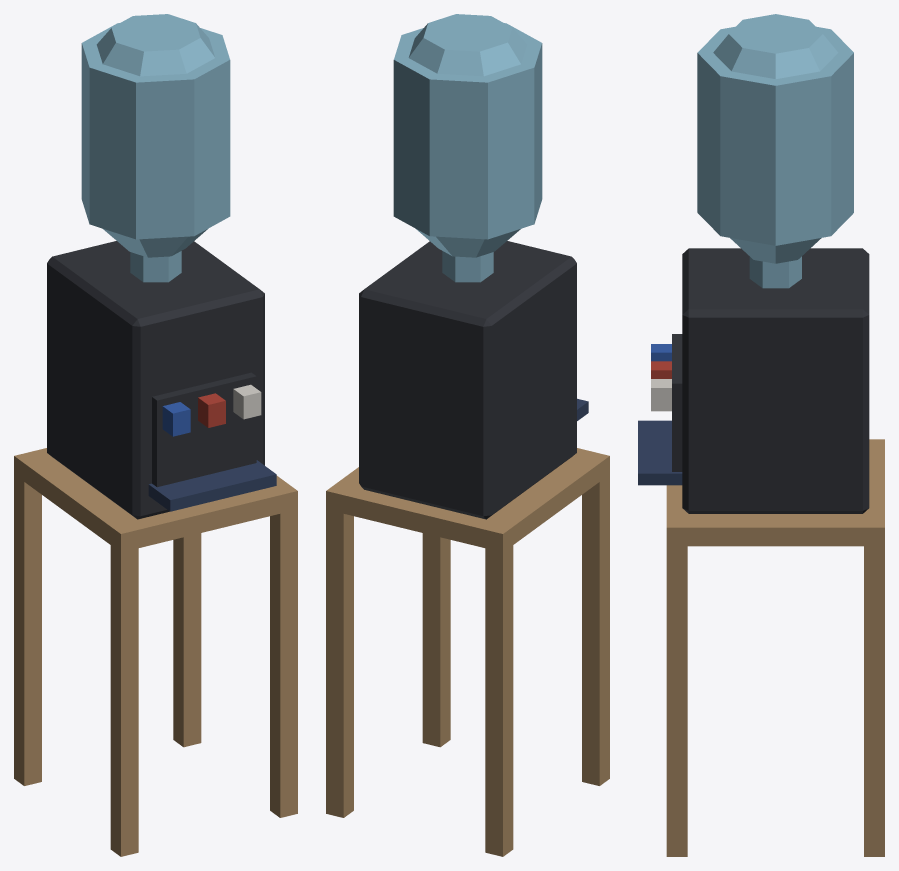
Rendered from water-cooler-02.glb.
The picture shows the model from 3 angles, left to right: view 1: azimuth 30°, elevation 25°; view 2: azimuth 150°, elevation 25°; view 3: azimuth 270°, elevation 25°; orthographic projection. The views are drawn at different scales.
Parts seen in each view (by area): view 1: water_cooler_02; view 2: water_cooler_02; view 3: water_cooler_02.
Part boxes in pixels (x1=…): water_cooler_02: x1=14, y1=14, x2=297, y2=856; water_cooler_02: x1=326, y1=14, x2=609, y2=856; water_cooler_02: x1=638, y1=14, x2=884, y2=856.
Size of the model in its own units: 0.4005 by 1.65 by 0.474.
